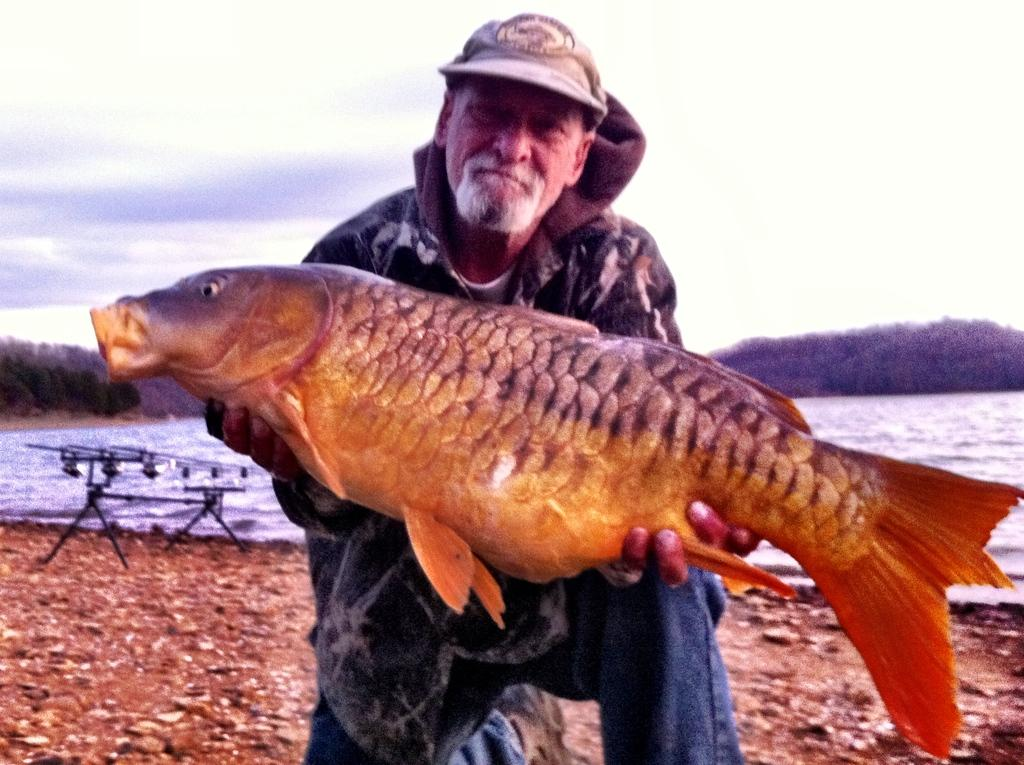Hat: (435, 9, 607, 122)
